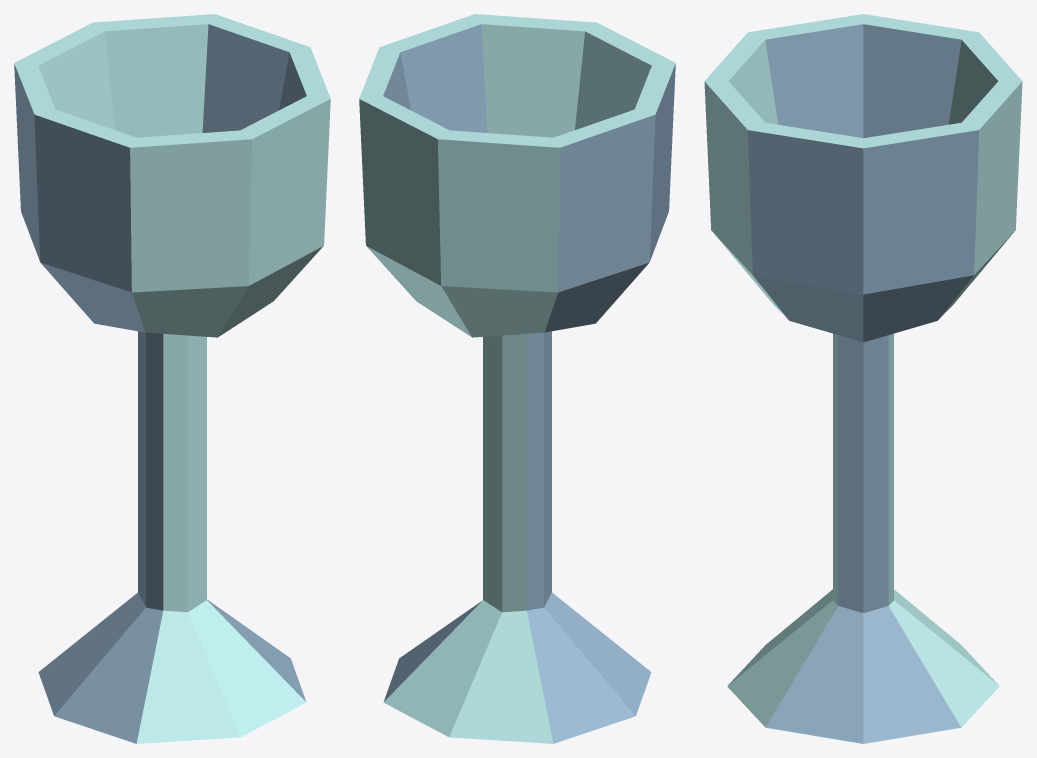
The model's file is Wine Glass.fbx.
3 renders of one model, left to right at view 1: azimuth 30°, elevation 25°; view 2: azimuth 150°, elevation 25°; view 3: azimuth 270°, elevation 25°, orthographic.
Visible parts, largest first — view 1: Wine Glass; view 2: Wine Glass; view 3: Wine Glass.
Part boxes in pixels (x1,y1,x2,y2): Wine Glass: [14, 14, 330, 743]; Wine Glass: [359, 14, 675, 743]; Wine Glass: [704, 14, 1022, 743].
Size of the model in its own units: 18.33 by 38.49 by 18.33.
